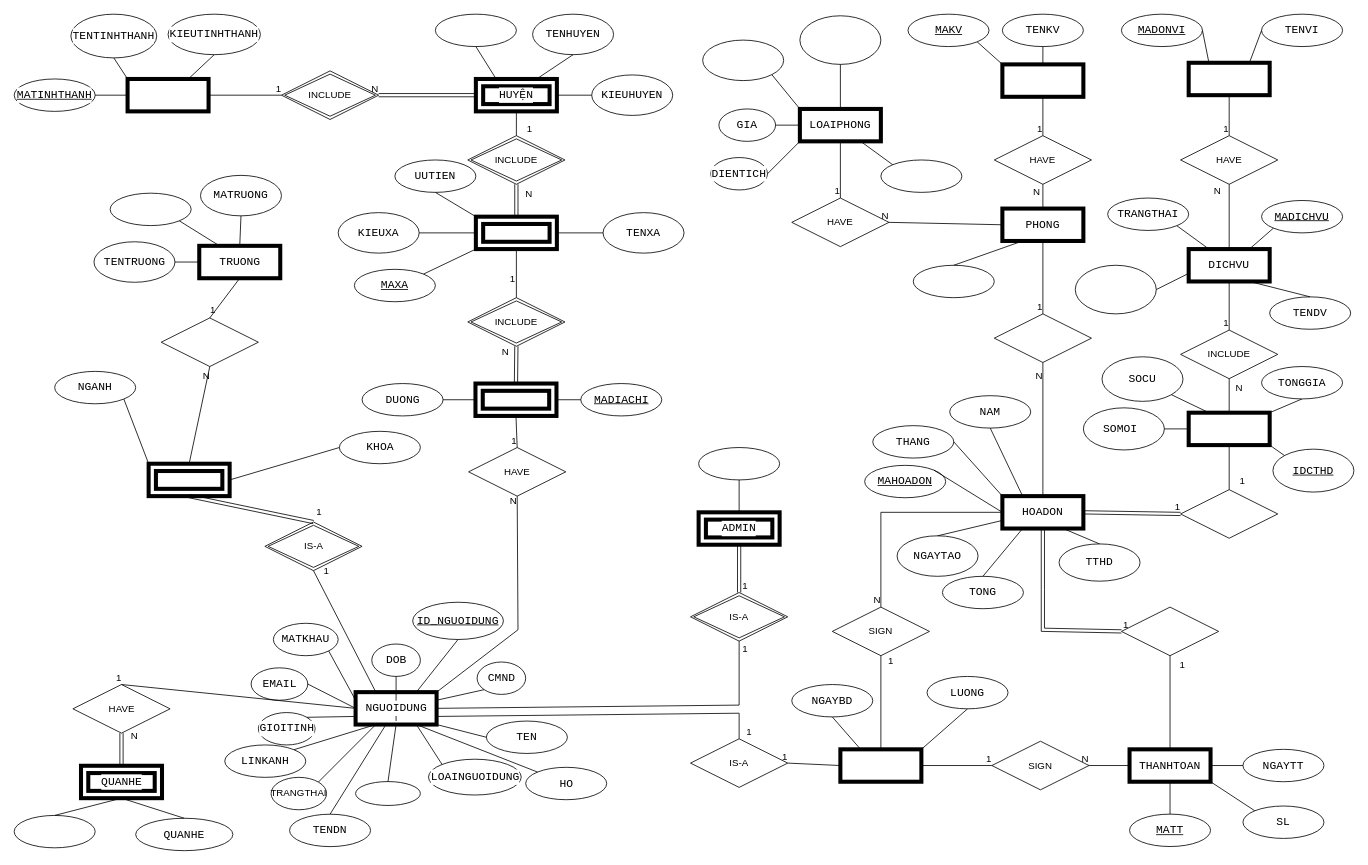
Some shapes in this 1368 by 865 pixel diagram are drawn without their labels. The centre of each missing label's shape, as x and y in pixels:
ADMIN_ID: (x=739, y=463)
CTHD: (x=1228, y=428)
DIACHI: (x=515, y=399)
DONVI: (x=1228, y=78)
FOR: (x=1042, y=337)
GIADV: (x=1115, y=289)
ID: (x=54, y=831)
IDLOAIPHONG: (x=743, y=60)
IDTRUONG: (x=150, y=209)
KHUVUC: (x=1042, y=80)
MAHUYEN: (x=475, y=30)
MAPHONG: (x=953, y=281)
NHANVIEN: (x=880, y=765)
PAY: (x=1170, y=631)
Relationship: (x=1229, y=513)
SINHVIEN: (x=188, y=479)
STUDY: (x=209, y=342)
SUCCHUA: (x=921, y=175)
SĐT: (x=387, y=793)
TENLOAIPHONG: (x=840, y=39)
TINHTHANH: (x=167, y=95)
XA: (x=515, y=232)
